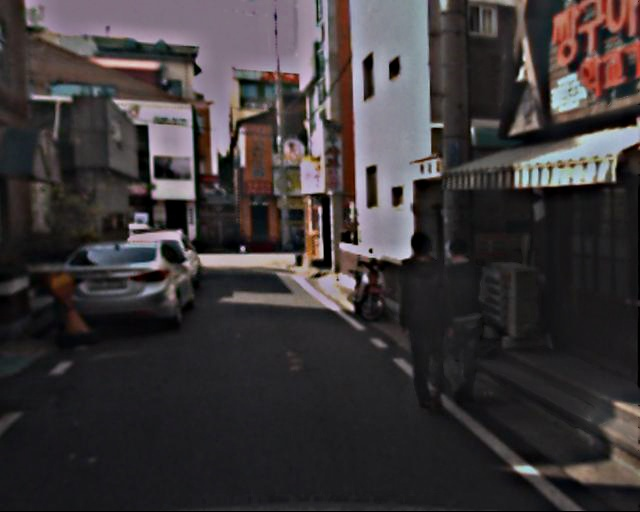person: (392, 239, 463, 413), (426, 238, 492, 400)
